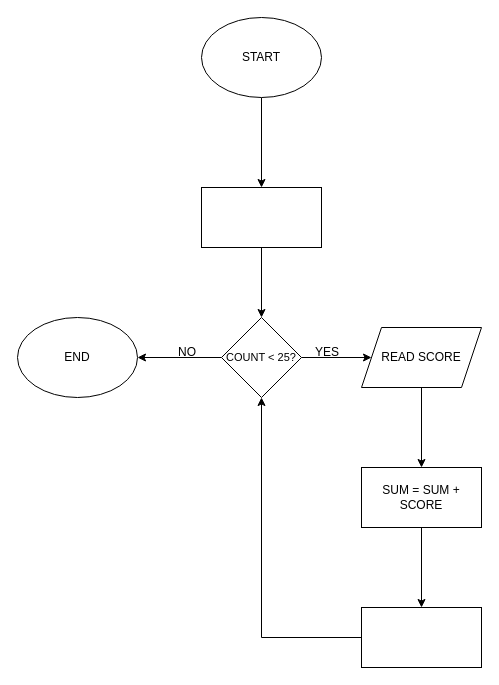
This 499x685 diagram has some shape labels left out. Each missing label, with the centre of its shape:
COUNT = COUNT + 1: (421,637)
LET COUNT = 0, SUM = 0: (261,217)
